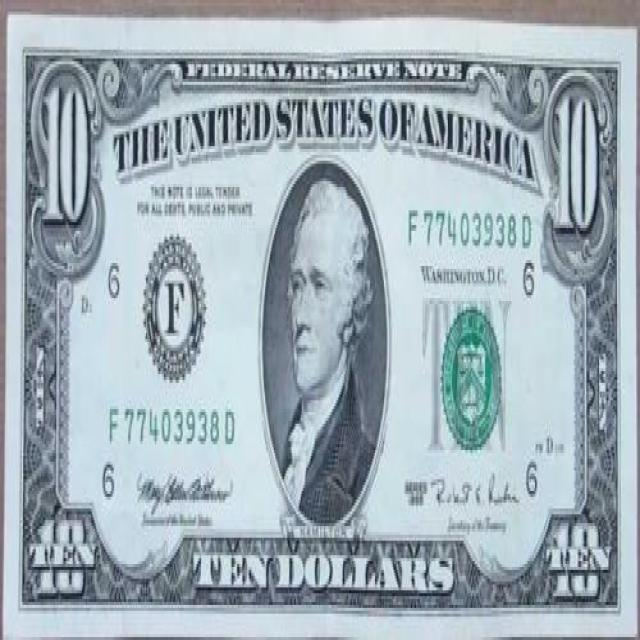10-Front: (1, 11, 639, 640)
